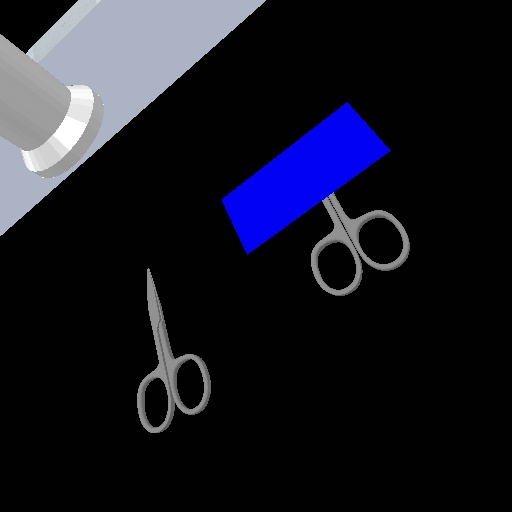tijera: (127, 262, 216, 437), (307, 188, 413, 299)
